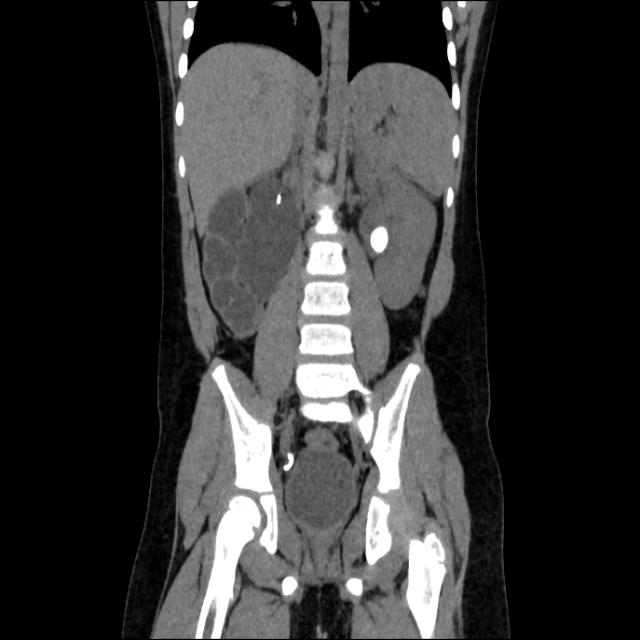kidney: (207, 169, 294, 338), (360, 168, 434, 307)
stone: (369, 225, 388, 254), (276, 192, 282, 206)
